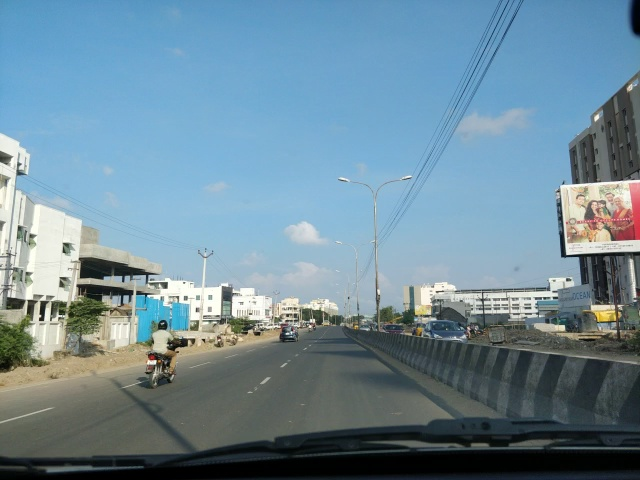car: (420, 317, 470, 353), (278, 324, 300, 342), (383, 324, 404, 342)
motorbike: (143, 316, 186, 389), (141, 318, 184, 388), (311, 320, 317, 331), (307, 322, 312, 331)
person: (149, 317, 180, 375)
